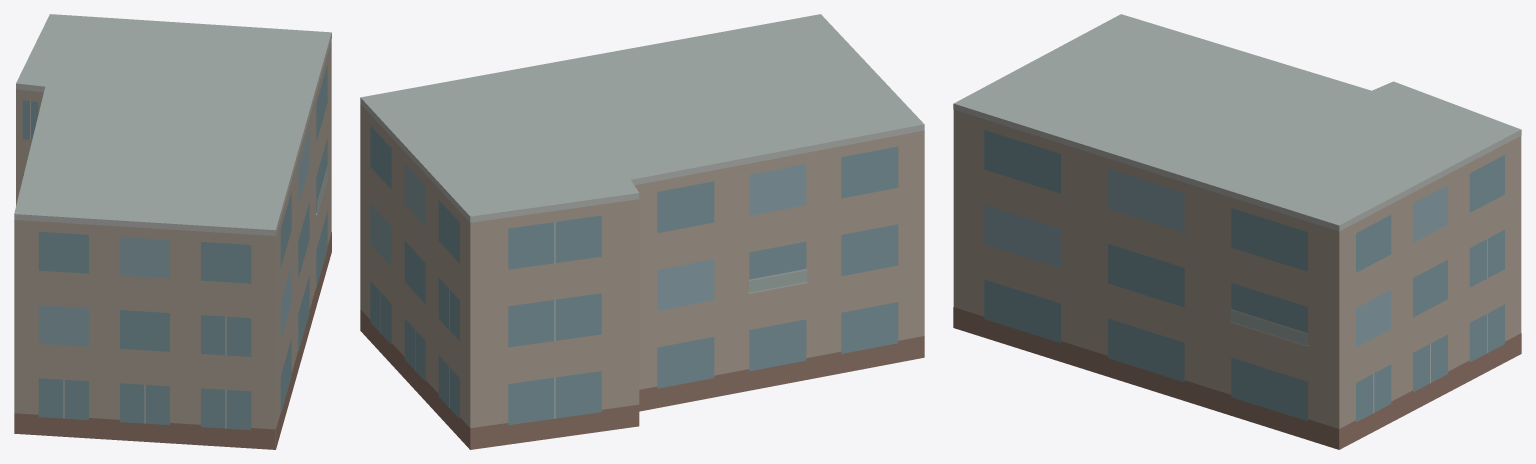
The model's file is survey-upis-32951487.glb.
3 views of the same model, side by side, from view 1: azimuth 30°, elevation 25°; view 2: azimuth 150°, elevation 25°; view 3: azimuth 270°, elevation 25° (orthographic). The views are drawn at different scales.
Parts seen in each view (by area): view 1: survey-upis-32951487.tmp; view 2: survey-upis-32951487.tmp; view 3: survey-upis-32951487.tmp.
Boxes of the visible parts, <box> form: survey-upis-32951487.tmp: <box>14,14,331,449</box>; survey-upis-32951487.tmp: <box>360,14,924,449</box>; survey-upis-32951487.tmp: <box>953,14,1521,449</box>.
Bounding box in the file's own units: 18.51 × 9.15 × 21.
